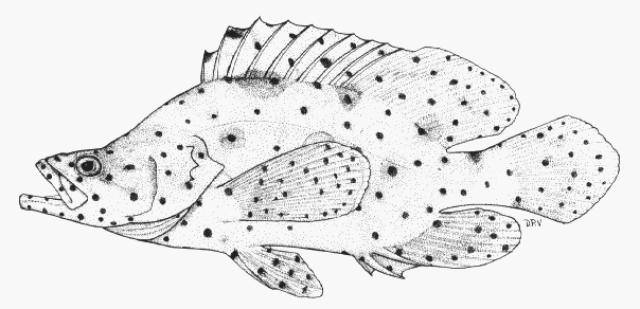Mulut: (9, 151, 92, 233)
Sirip Anal: (361, 206, 525, 284)
Sirip Dada: (228, 138, 372, 226)
Sirip Ekor: (510, 111, 624, 230)
Sirip Perut: (233, 240, 327, 302)
Sirip Punggung: (192, 9, 530, 156)
